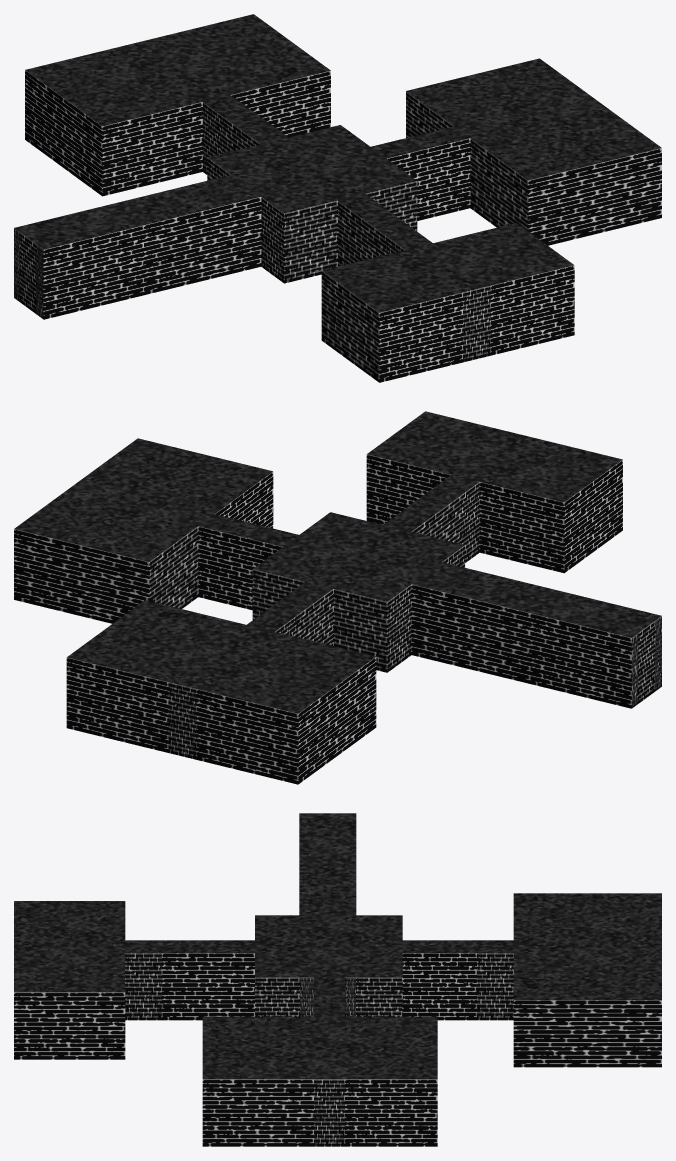
Rendered from test-level-V1.glb.
3 views of the same model, one above another, from view 1: azimuth 30°, elevation 25°; view 2: azimuth 150°, elevation 25°; view 3: azimuth 270°, elevation 25° (orthographic). The views are drawn at different scales.
Parts seen in each view (by area): view 1: TestLevel; view 2: TestLevel; view 3: TestLevel.
Boxes of the visible parts, x1,y1,x2,y2 form: TestLevel: (14, 14, 661, 382); TestLevel: (14, 411, 661, 784); TestLevel: (14, 813, 661, 1146).
Bounding box in the file's own units: 33.96 × 4 × 34.96.
2 materials, 2 textured.
